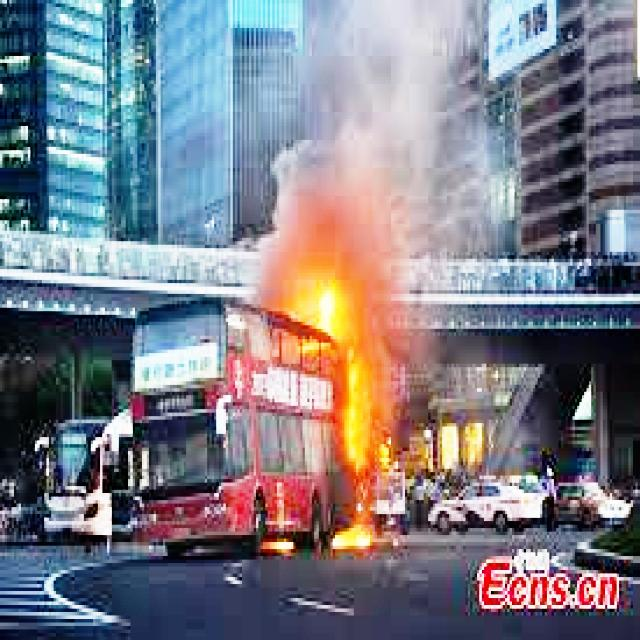api: (297, 277, 388, 473), (255, 501, 301, 568), (318, 512, 374, 561)
